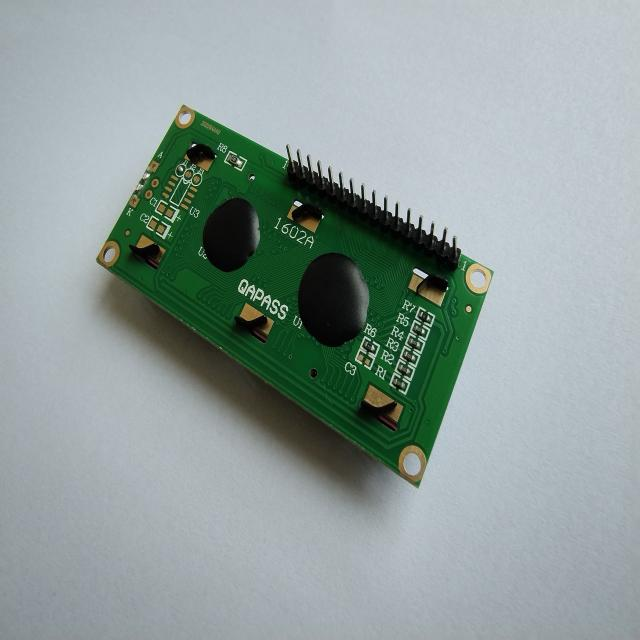lcd: (96, 102, 494, 490)
